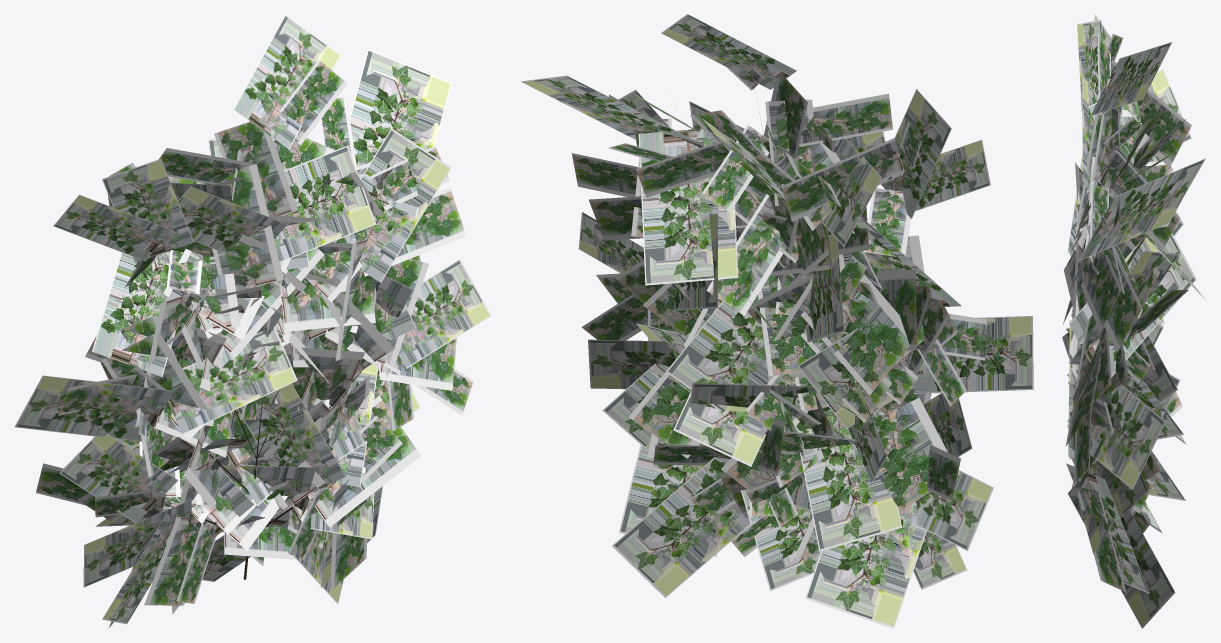
File: Ivy7.fbx
The picture shows the model from 3 angles, left to right: view 1: azimuth 30°, elevation 25°; view 2: azimuth 150°, elevation 25°; view 3: azimuth 270°, elevation 25°; orthographic projection. The views are drawn at different scales.
Visible parts, largest first — view 1: Ivy7; view 2: Ivy7; view 3: Ivy7.
Part boxes in pixels (box(x1,y1,x2,y2)): Ivy7: box(14, 14, 491, 628); Ivy7: box(520, 14, 1033, 628); Ivy7: box(1062, 14, 1205, 628).
Bounding box in the file's own units: 383 × 460 × 106.
